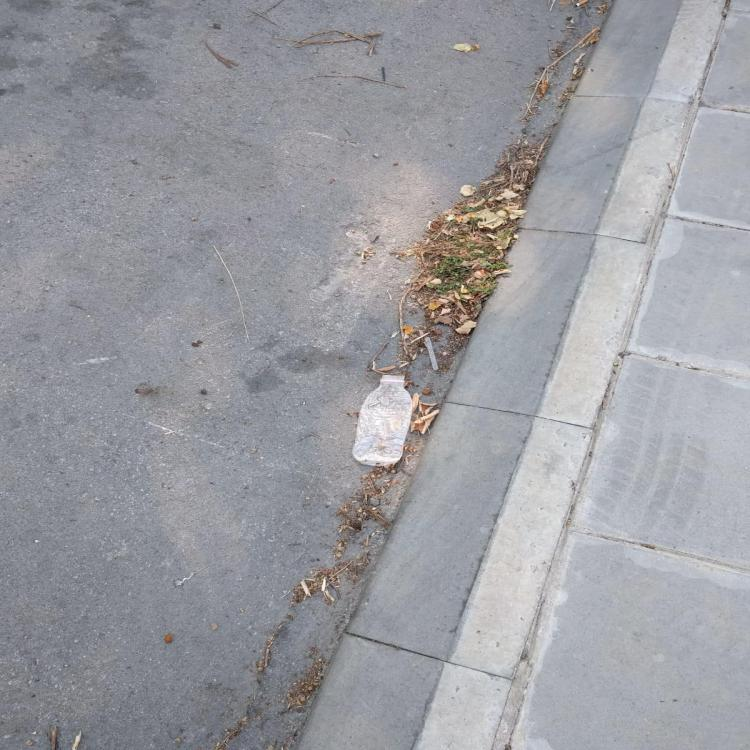Cigarette: (573, 0, 589, 8)
Clear plastic bottle: (351, 376, 412, 466)
Unlabeled litter: (424, 336, 439, 368)
